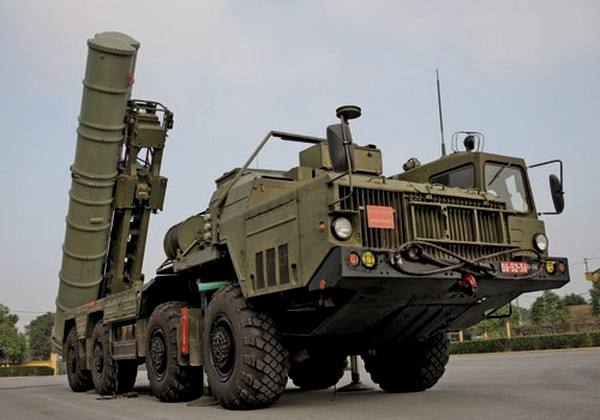plate: (498, 257, 531, 276)
